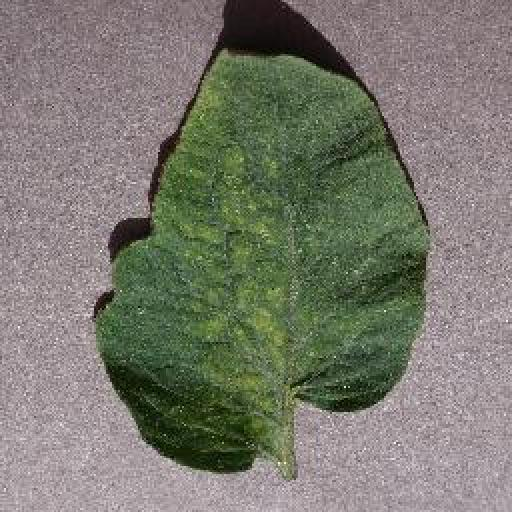disease_tomato: (97, 44, 432, 475)
